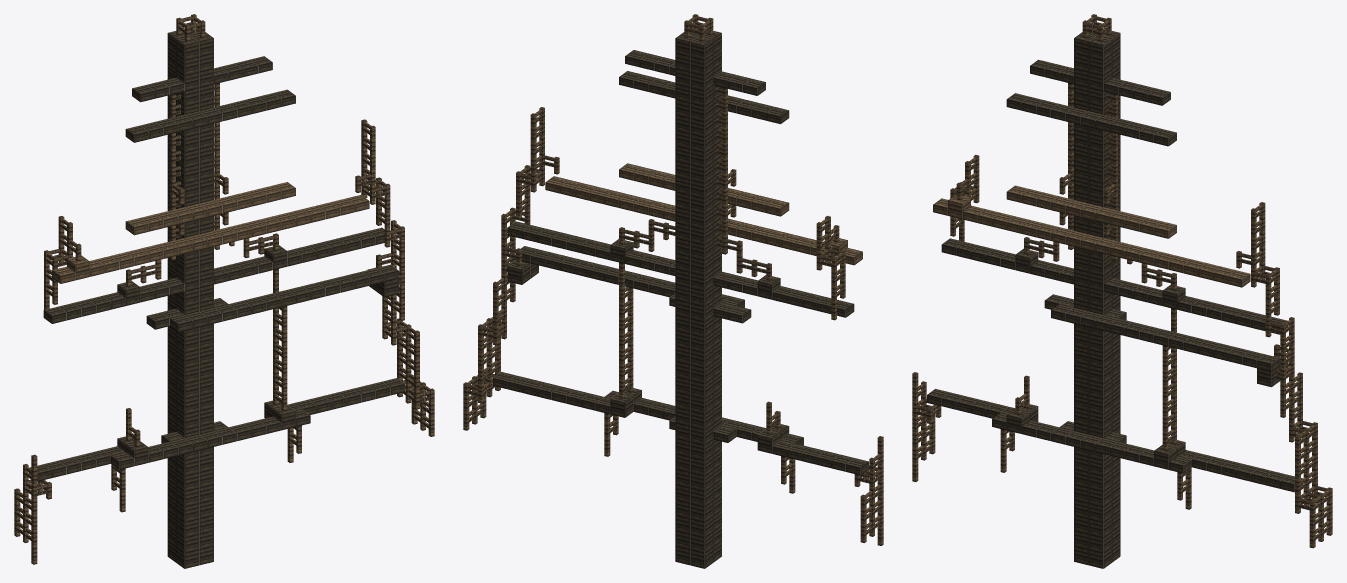
File: Frozen_Ship_Mast_02.fbx
3 views of the same model, side by side, from view 1: azimuth 30°, elevation 25°; view 2: azimuth 150°, elevation 25°; view 3: azimuth 330°, elevation 25° (orthographic).
Parts seen in each view (by area): view 1: Frozen_Ship_Mast_02.mo; view 2: Frozen_Ship_Mast_02.mo; view 3: Frozen_Ship_Mast_02.mo.
Boxes of the visible parts, x1,y1,x2,y2 form: Frozen_Ship_Mast_02.mo: (14, 14, 434, 568); Frozen_Ship_Mast_02.mo: (463, 14, 883, 568); Frozen_Ship_Mast_02.mo: (912, 14, 1332, 568).
Size of the model in its own units: 2725 by 3500 by 300.
